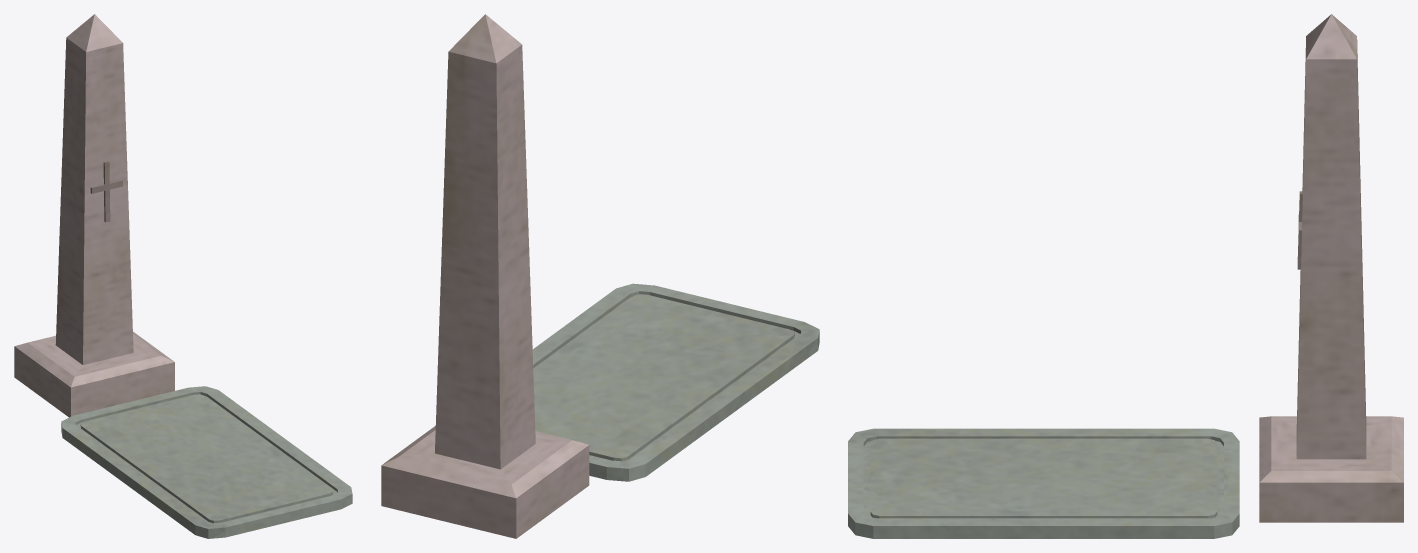
File: gg_GraveStone_04.FBX
3 renders of one model, left to right at view 1: azimuth 30°, elevation 25°; view 2: azimuth 150°, elevation 25°; view 3: azimuth 270°, elevation 25°, orthographic. The views are drawn at different scales.
Parts seen in each view (by area): view 1: gg_GraveStone_04, Grave; view 2: gg_GraveStone_04, Grave; view 3: Grave, gg_GraveStone_04.
Boxes of the visible parts, x1,y1,x2,y2 form: gg_GraveStone_04: [14, 14, 174, 417]; Grave: [61, 386, 352, 538]; gg_GraveStone_04: [381, 14, 589, 538]; Grave: [532, 283, 819, 481]; Grave: [848, 428, 1239, 538]; gg_GraveStone_04: [1259, 14, 1403, 522].
Bounding box in the file's own units: 53.18 × 121 × 128.
2 materials, 2 textured.
